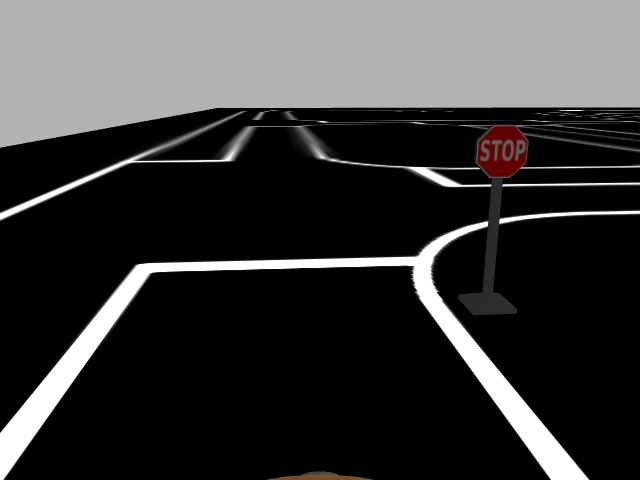stop: (471, 123, 531, 180)
